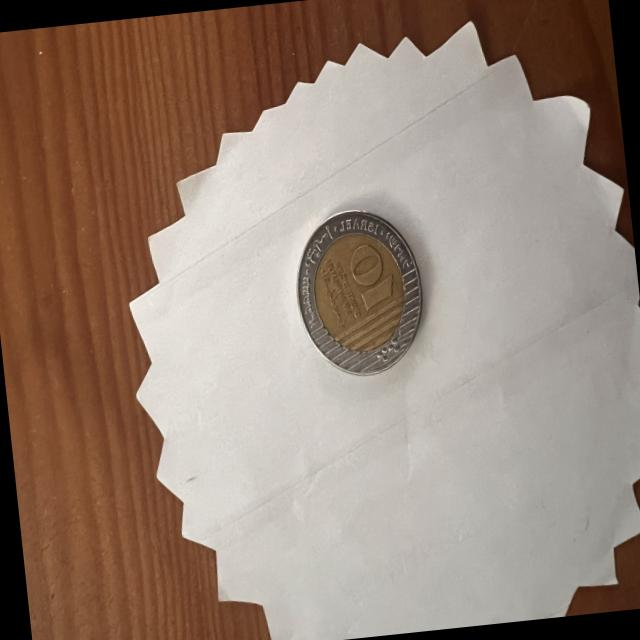10-shekel: (275, 190, 434, 394)
